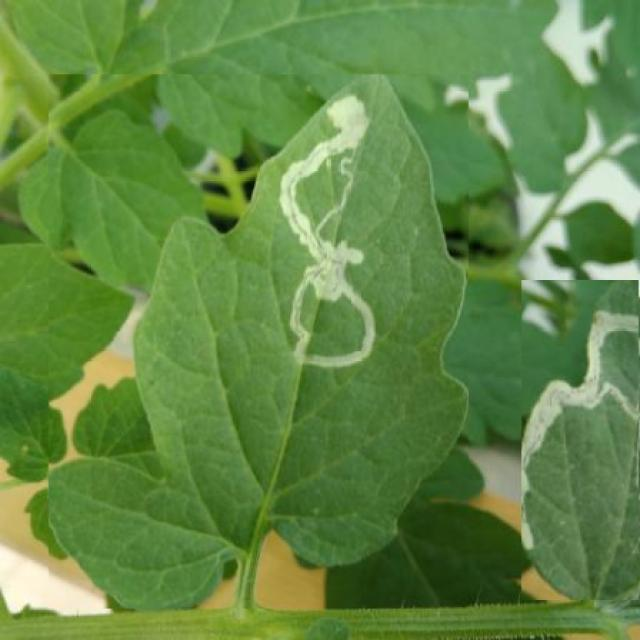Leaf Miner: (49, 75, 468, 609), (522, 280, 638, 600)
